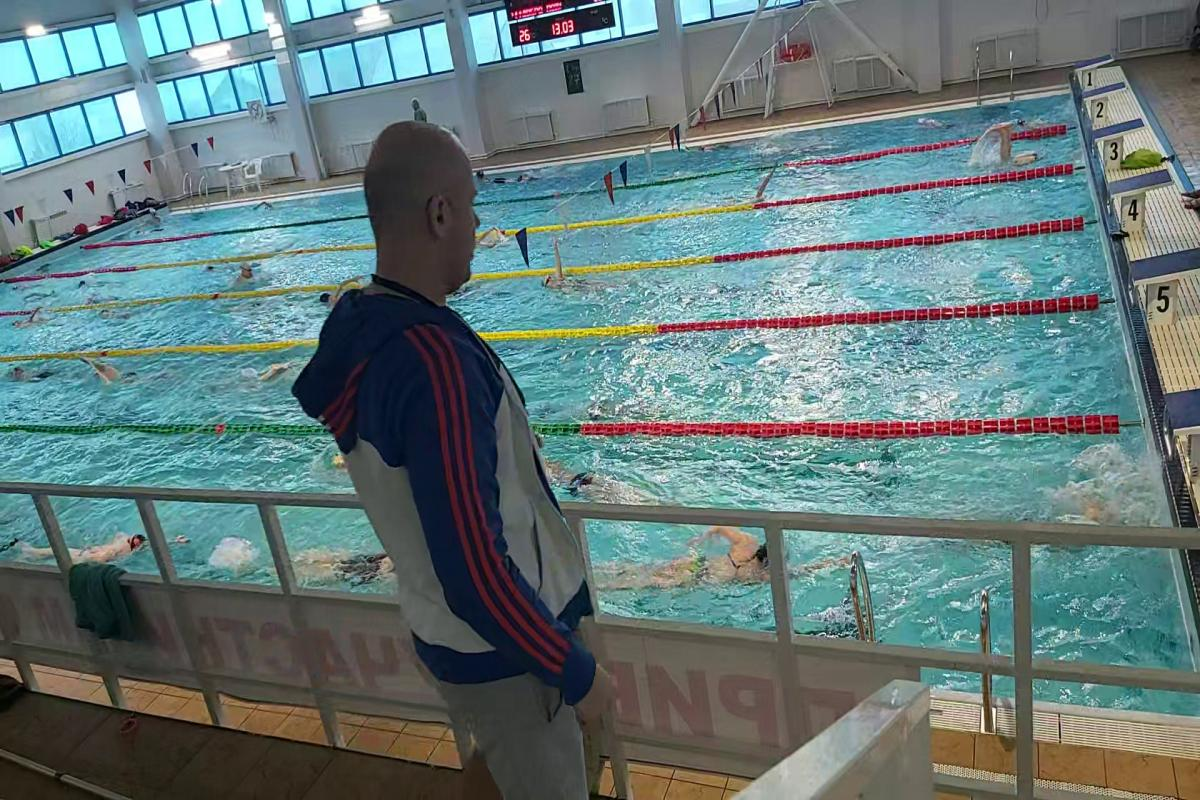swimmer: (617, 531, 774, 602), (551, 450, 648, 502), (302, 538, 391, 593), (65, 526, 156, 569), (75, 350, 148, 394), (539, 258, 612, 298), (3, 355, 68, 388), (224, 260, 277, 291), (8, 302, 58, 334), (730, 176, 783, 206)
